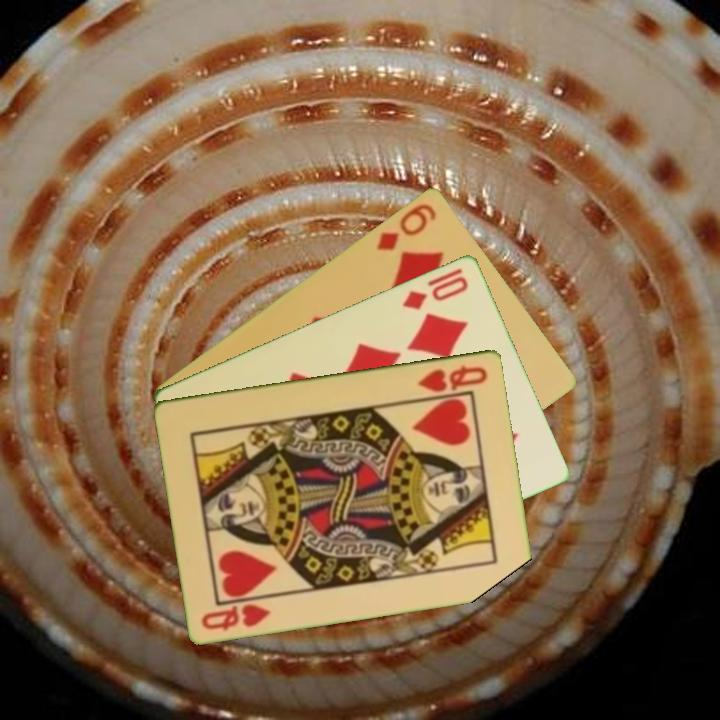10d: (399, 272, 472, 313)
6d: (372, 199, 440, 253)
Qh: (414, 361, 491, 395), (198, 599, 273, 633)
